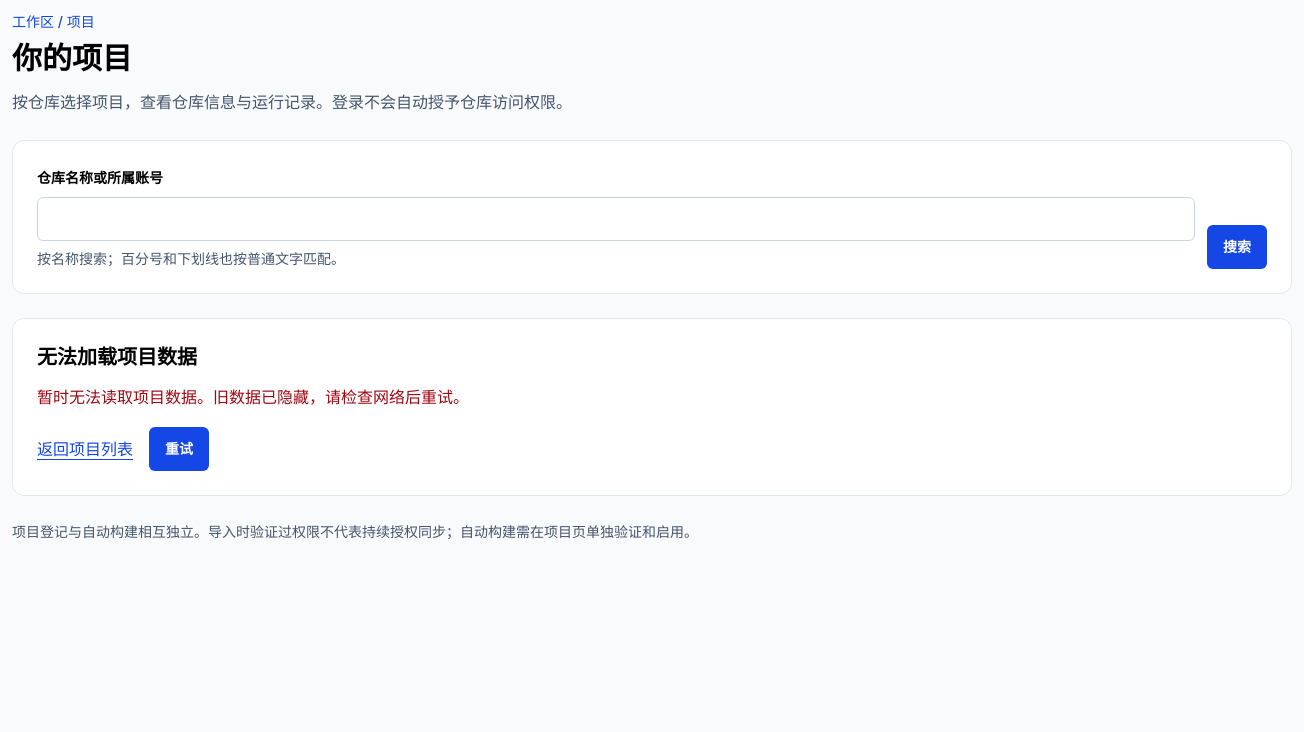
Test: network errors are not presented as empty projects and retry works
Expected: the message shows "旧数据已隐藏", [37,387,469,407]
Click the button "重试": (179, 449) [149,427,209,471]
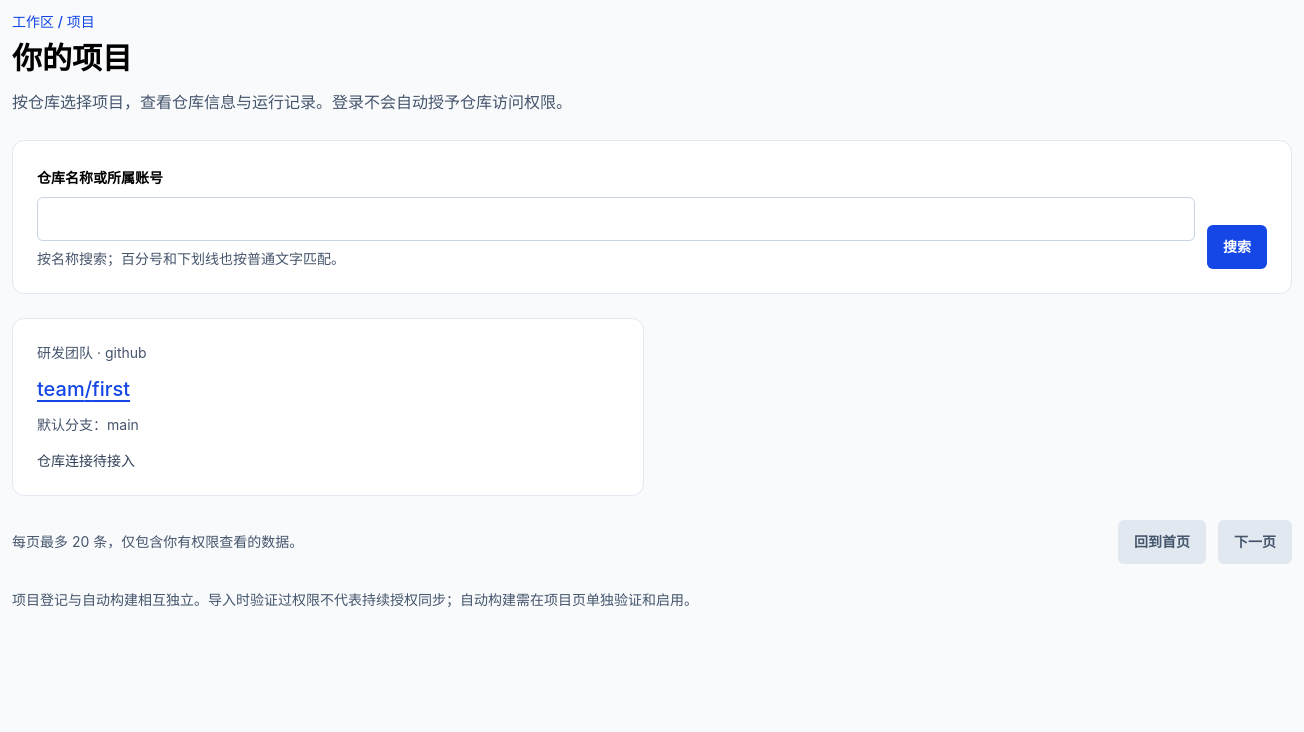
Result: the link "team/first" is shown at [37,377,130,401]
